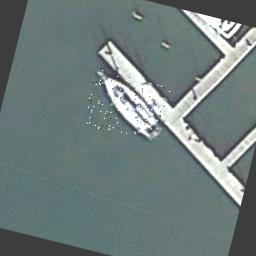boat: (82, 68, 172, 144)
